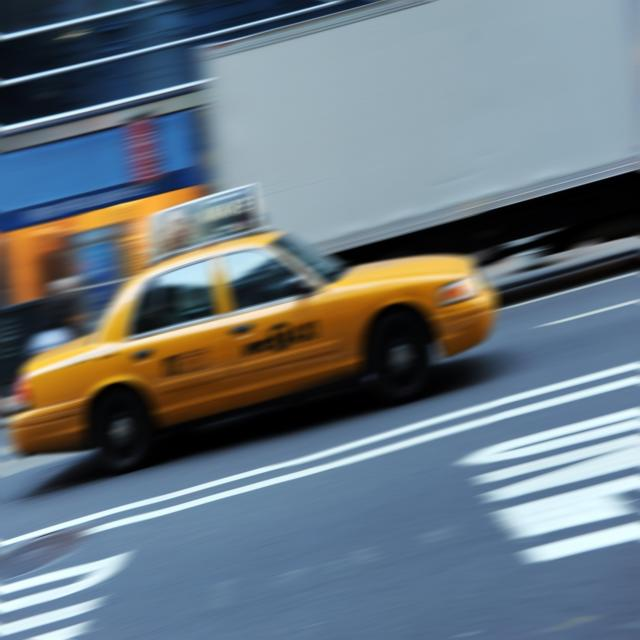Taxi: (0, 211, 498, 465)
